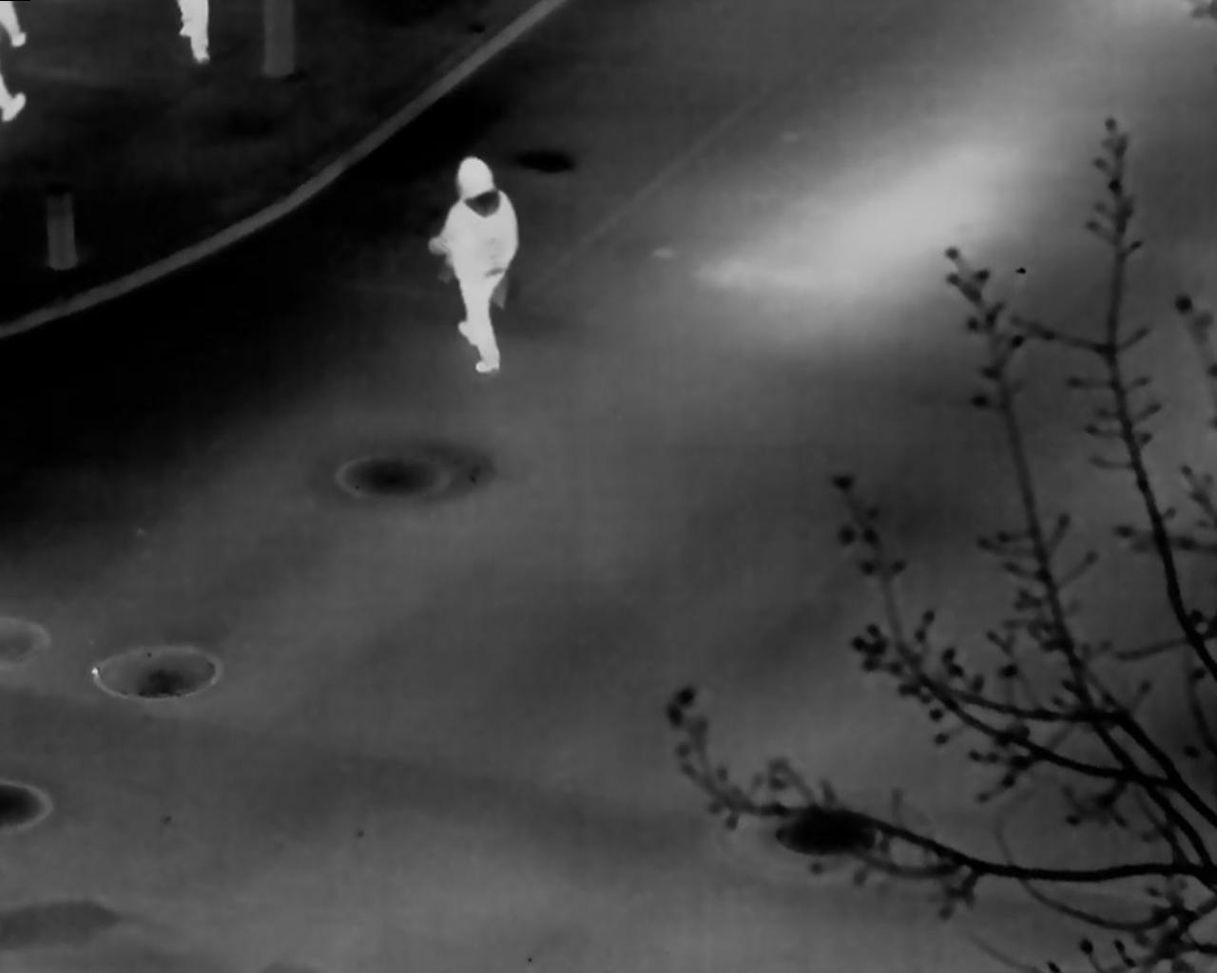person: (425, 154, 520, 374)
